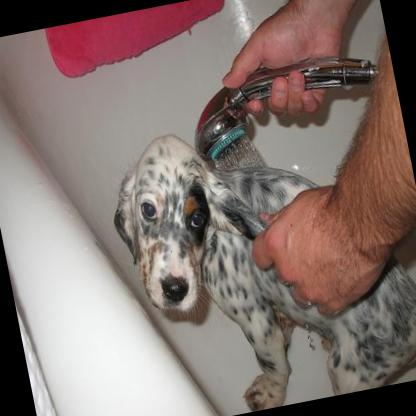English_setter: (97, 88, 416, 416)
